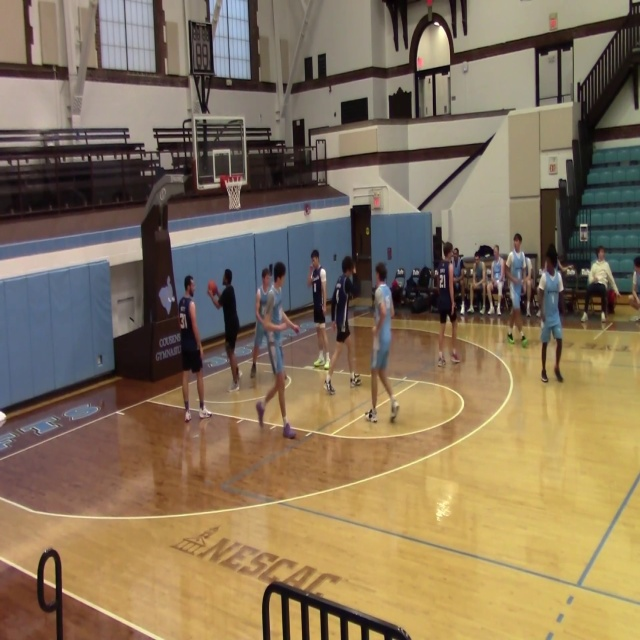Basketball: (628, 295, 640, 309), (207, 280, 217, 296), (0, 410, 6, 426)
